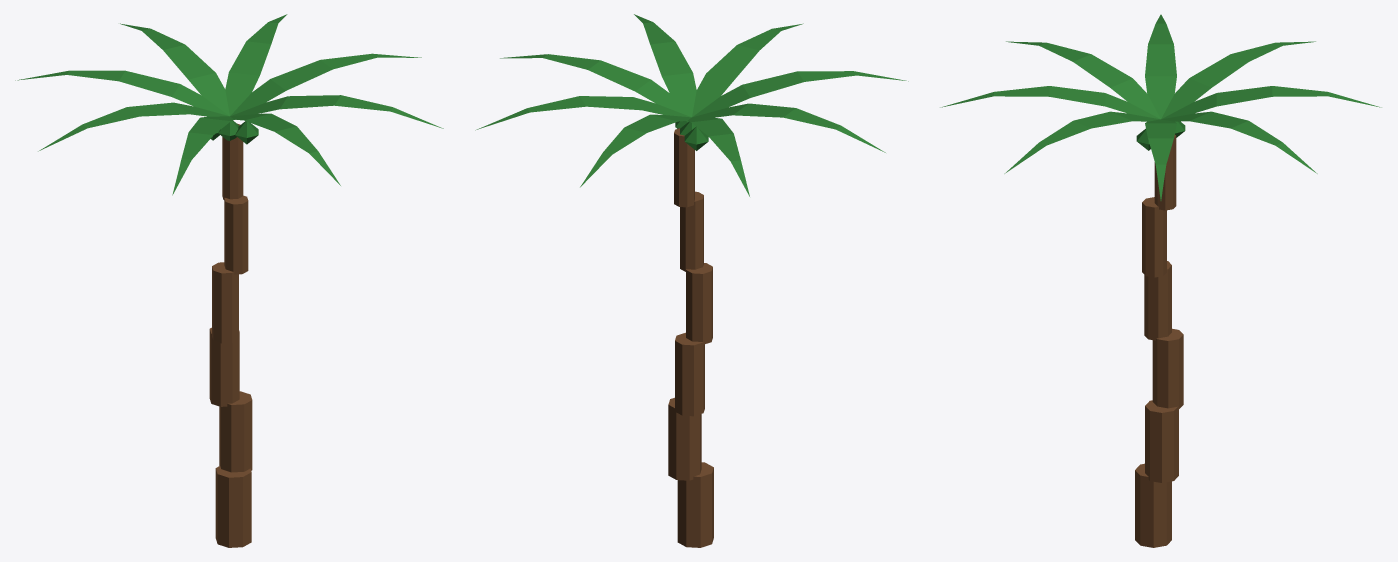
Rendered from palm_tropical.obj.
The picture shows the model from 3 angles, left to right: view 1: azimuth 30°, elevation 25°; view 2: azimuth 150°, elevation 25°; view 3: azimuth 270°, elevation 25°; orthographic projection.
Parts seen in each view (by area): view 1: frond, trunk_seg, coconut; view 2: frond, trunk_seg, coconut; view 3: frond, trunk_seg.
Part boxes in pixels (x1,y1,x2,y2): frond: (15,14,443,195); trunk_seg: (209,123,252,547); coconut: (210,120,258,144); frond: (475,14,908,196); trunk_seg: (668,128,713,547); coconut: (675,121,708,150); frond: (940,14,1381,200); trunk_seg: (1135,134,1183,547).
Bounding box in the file's own units: 7.2 × 8 × 7.2.
